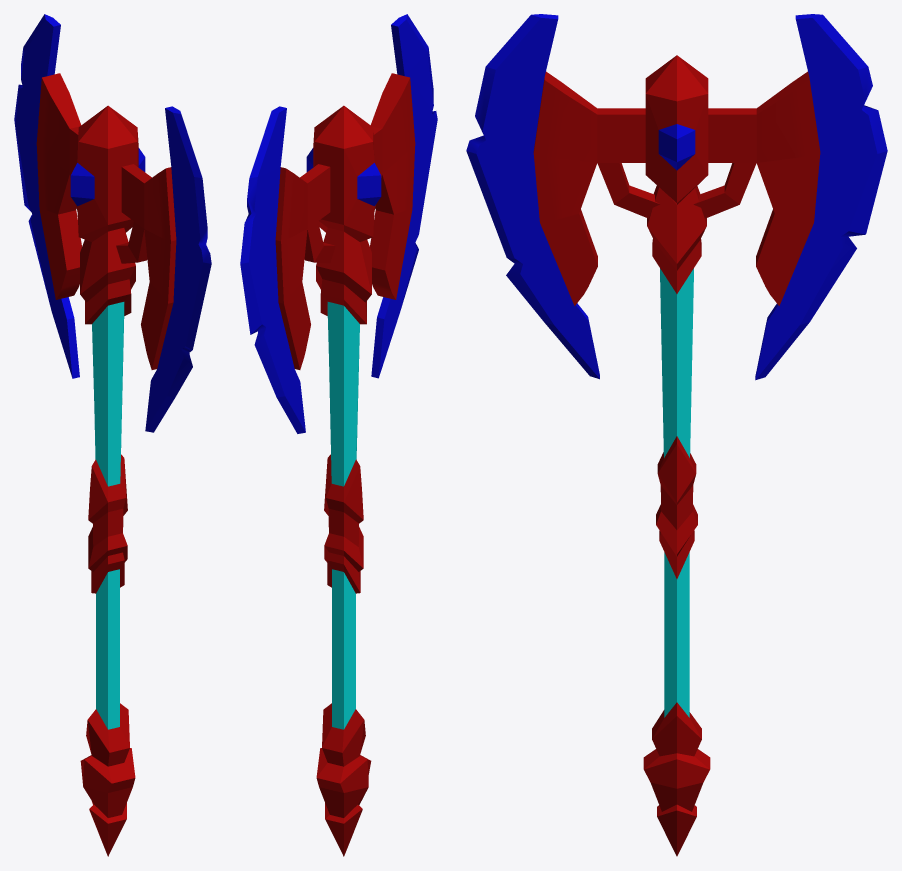
File: Greataxe_Uncommon_Laser.fbx
The picture shows the model from 3 angles, left to right: view 1: azimuth 30°, elevation 25°; view 2: azimuth 150°, elevation 25°; view 3: azimuth 270°, elevation 25°; orthographic projection. The views are drawn at different scales.
Visible parts, largest first — view 1: SM_Wep_Crystal_Axe_01; view 2: SM_Wep_Crystal_Axe_01; view 3: SM_Wep_Crystal_Axe_01.
Part boxes in pixels (left/top/right/bottom): SM_Wep_Crystal_Axe_01: left=14, top=14, right=211, bottom=856; SM_Wep_Crystal_Axe_01: left=240, top=14, right=437, bottom=856; SM_Wep_Crystal_Axe_01: left=466, top=14, right=887, bottom=856.
Size of the model in its own units: 0.1312 by 1.33 by 0.6008.
